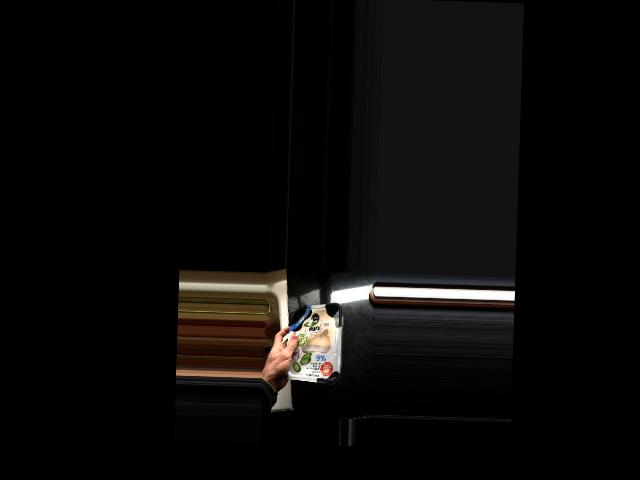cheese: (280, 303, 342, 384)
